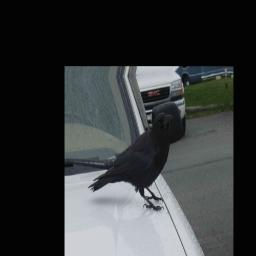Crow: (86, 111, 176, 219)
